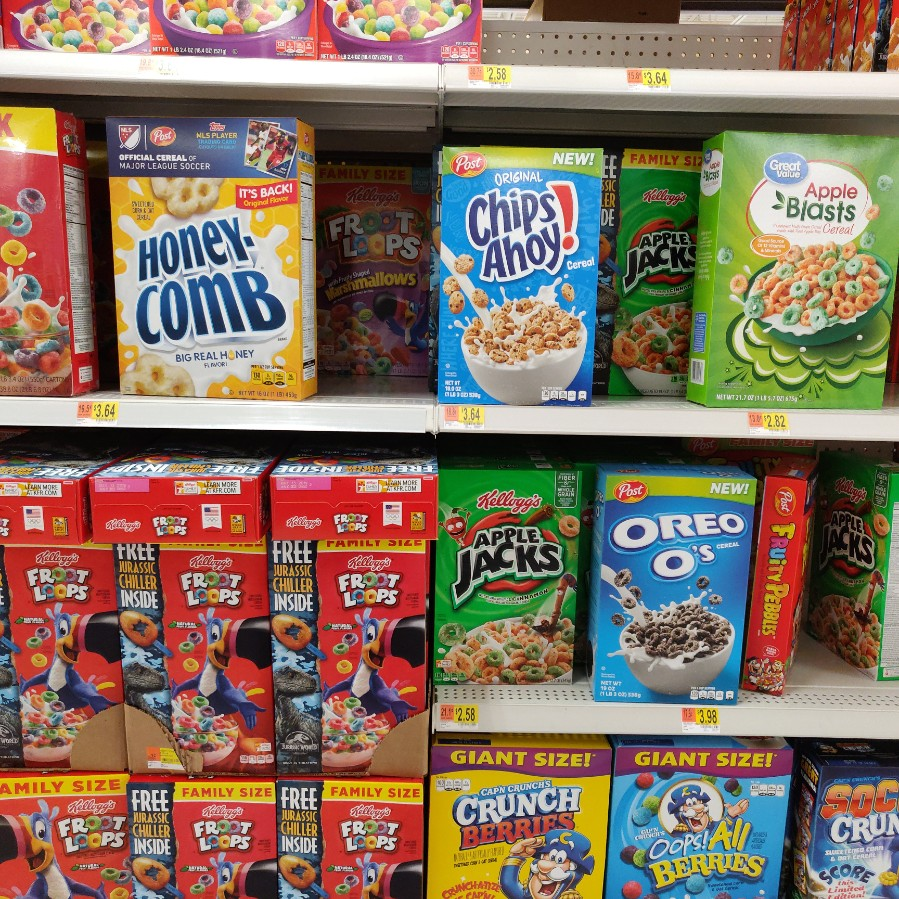Chips Ahoys-565717529: (436, 152, 602, 407)
Honey Comb- 009288857: (108, 113, 319, 398)
Oreo-563424384: (593, 472, 738, 708)
